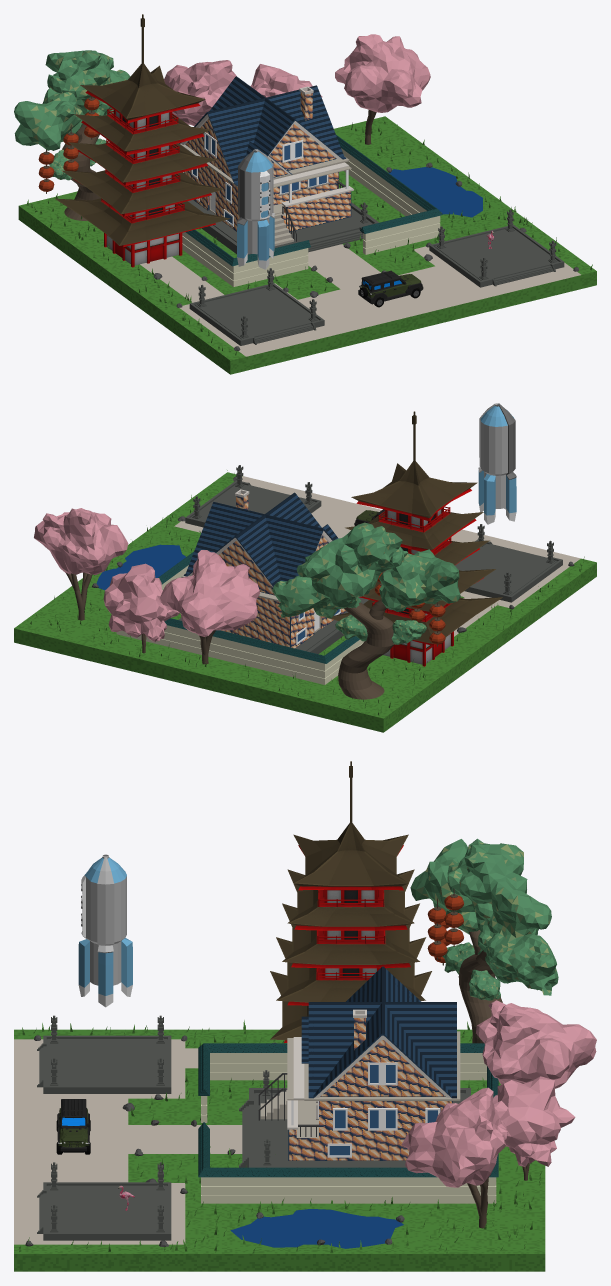
3 views of the same model, one above another, from view 1: azimuth 30°, elevation 25°; view 2: azimuth 150°, elevation 25°; view 3: azimuth 270°, elevation 25° (orthographic). The views are drawn at different scales.
Parts seen in each view (by area): view 1: Cube.005, Cube.430, OBJRANDOM_ROCKETSHIP, VEHICLES_JEEP; view 2: Cube.005, Cube.430, OBJRANDOM_ROCKETSHIP; view 3: Cube.005, Cube.430, OBJRANDOM_ROCKETSHIP, VEHICLES_JEEP.
Boxes of the visible parts, box(x1,y1,x2,y2) form: Cube.005: box(14, 14, 596, 374); Cube.430: box(178, 76, 353, 246); OBJRANDOM_ROCKETSHIP: box(236, 149, 274, 269); VEHICLES_JEEP: box(358, 270, 423, 307); Cube.005: box(14, 411, 596, 732); Cube.430: box(181, 489, 346, 648); OBJRANDOM_ROCKETSHIP: box(478, 403, 516, 524); Cube.005: box(14, 761, 596, 1271); Cube.430: box(258, 966, 460, 1160); OBJRANDOM_ROCKETSHIP: box(78, 854, 132, 1007); VEHICLES_JEEP: box(56, 1099, 90, 1154).
Bounding box in the file's own units: 4528 × 2693 × 4389.
Materials: 42 (6 with a texture image).
